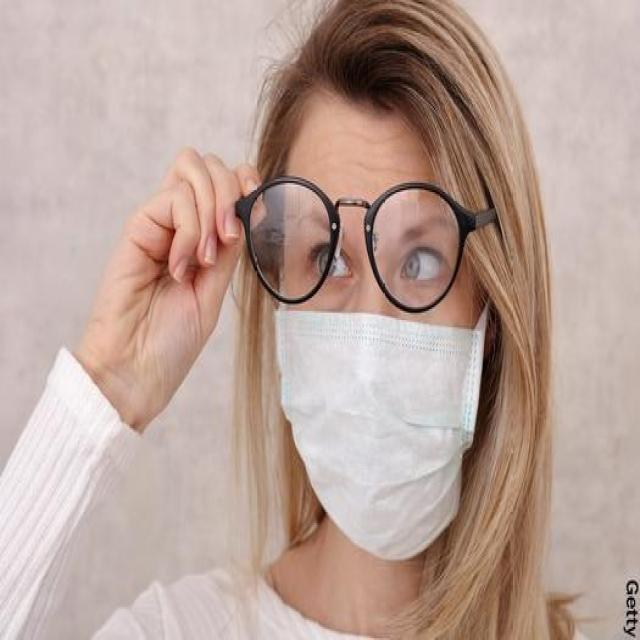Mask: (273, 304, 484, 560)
